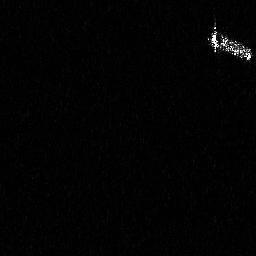ship: (205, 20, 253, 64)
